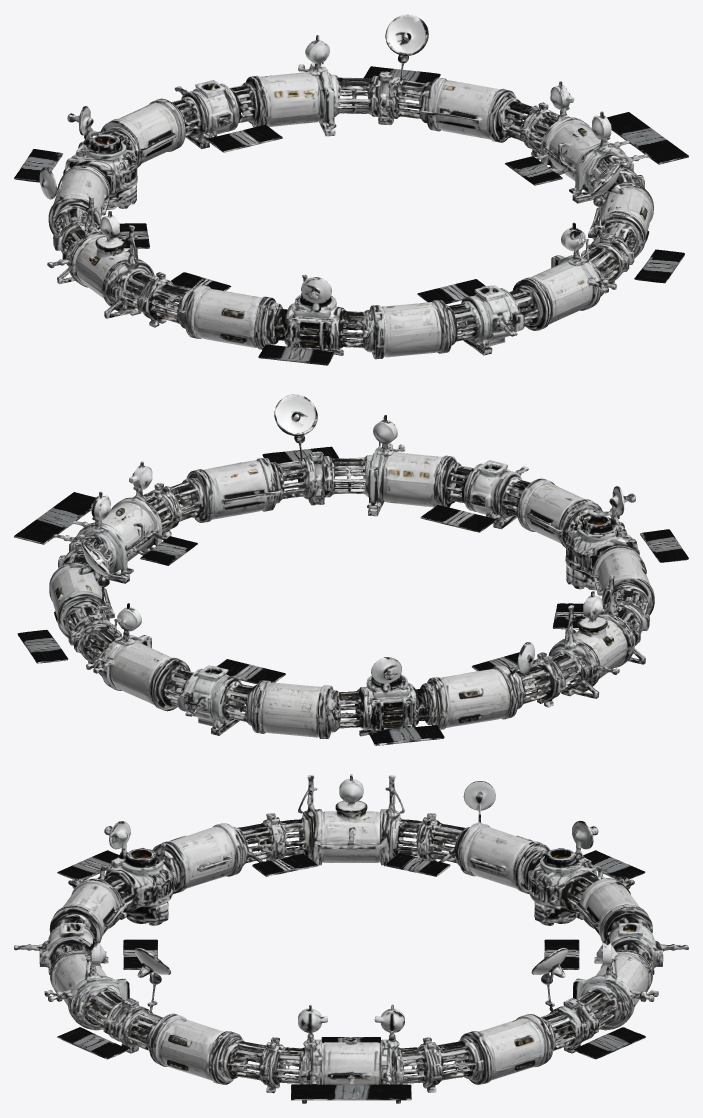
File: orbital-station.glb
3 renders of one model, top to bottom at view 1: azimuth 30°, elevation 25°; view 2: azimuth 150°, elevation 25°; view 3: azimuth 270°, elevation 25°, orthographic.
Visible parts, largest first — view 1: geometry_0; view 2: geometry_0; view 3: geometry_0.
Part boxes in pixels (<box>): geometry_0: <box>14,14,688,365</box>; geometry_0: <box>14,394,688,745</box>; geometry_0: <box>14,774,688,1103</box>.
Bounding box in the file's own units: 2 × 0.3781 × 1.98.
1 material, 1 textured.
